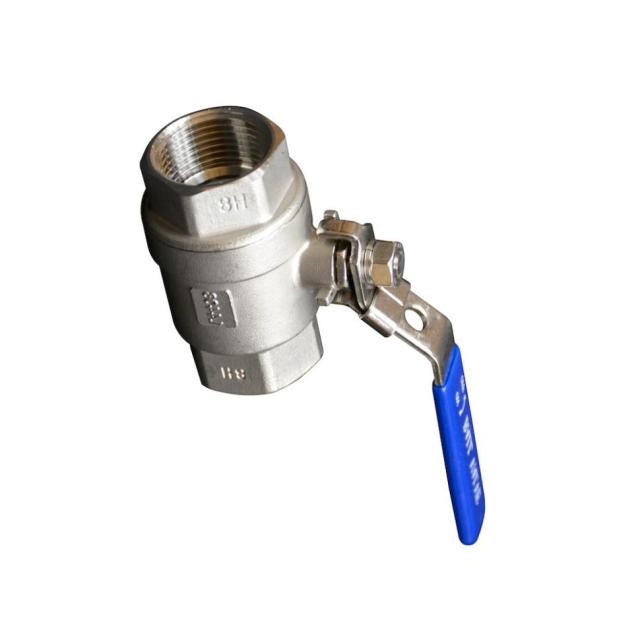opened_valve: (137, 101, 489, 548)
